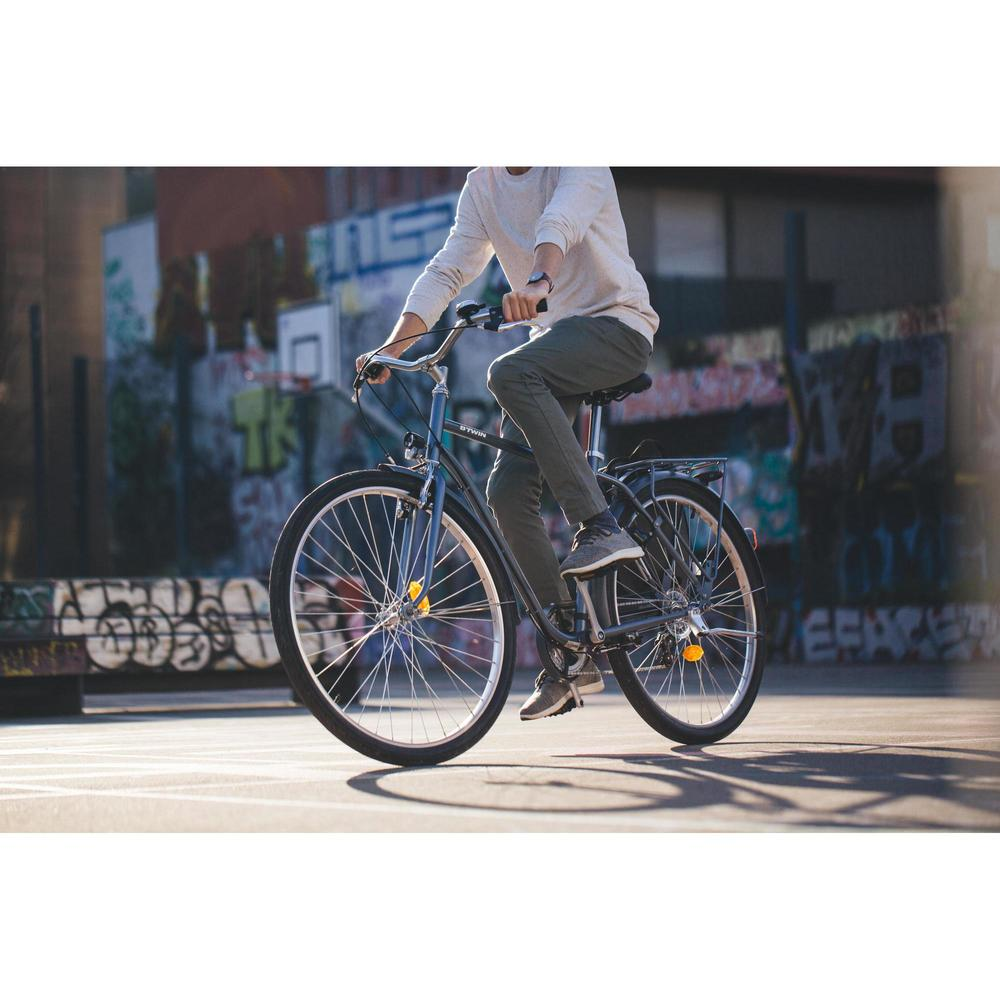UrbanBike: (281, 311, 767, 764)
